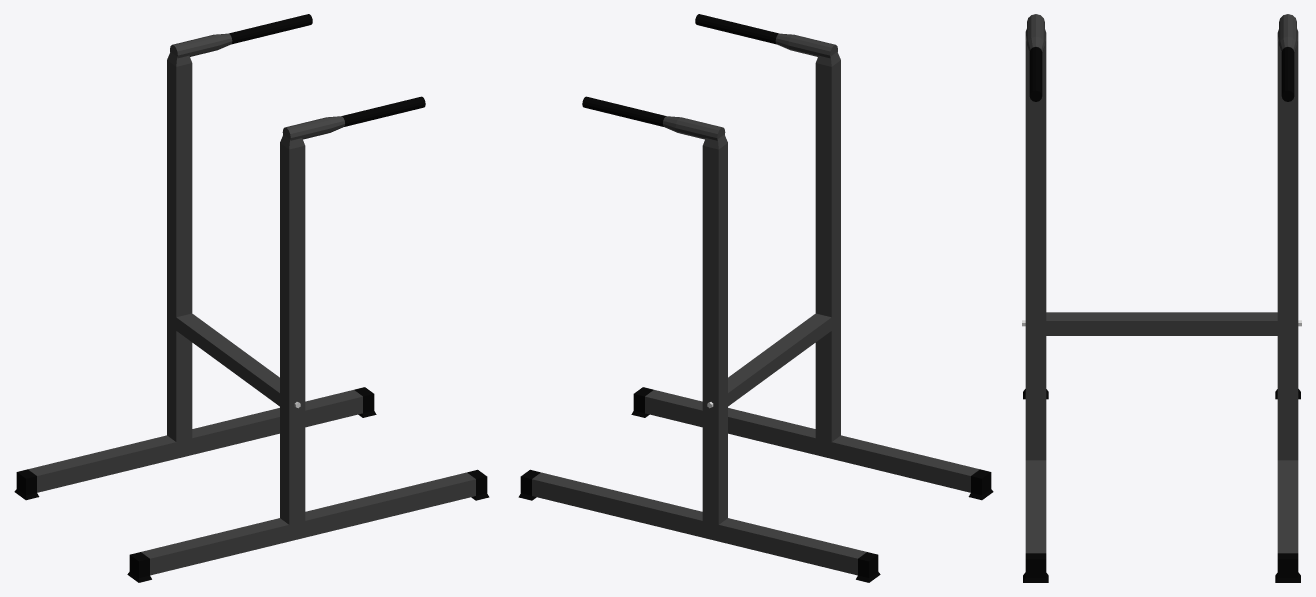
Rendered from DipStation.fbx.
3 views of the same model, side by side, from view 1: azimuth 30°, elevation 25°; view 2: azimuth 150°, elevation 25°; view 3: azimuth 270°, elevation 25° (orthographic). The views are drawn at different scales.
Visible parts, largest first — view 1: DipStation; view 2: DipStation; view 3: DipStation.
Boxes of the visible parts, x1=… form: DipStation: x1=14, y1=14, x2=489, y2=582; DipStation: x1=518, y1=14, x2=993, y2=582; DipStation: x1=1022, y1=14, x2=1301, y2=582.
Size of the model in its own units: 123 by 138 by 75.9.
